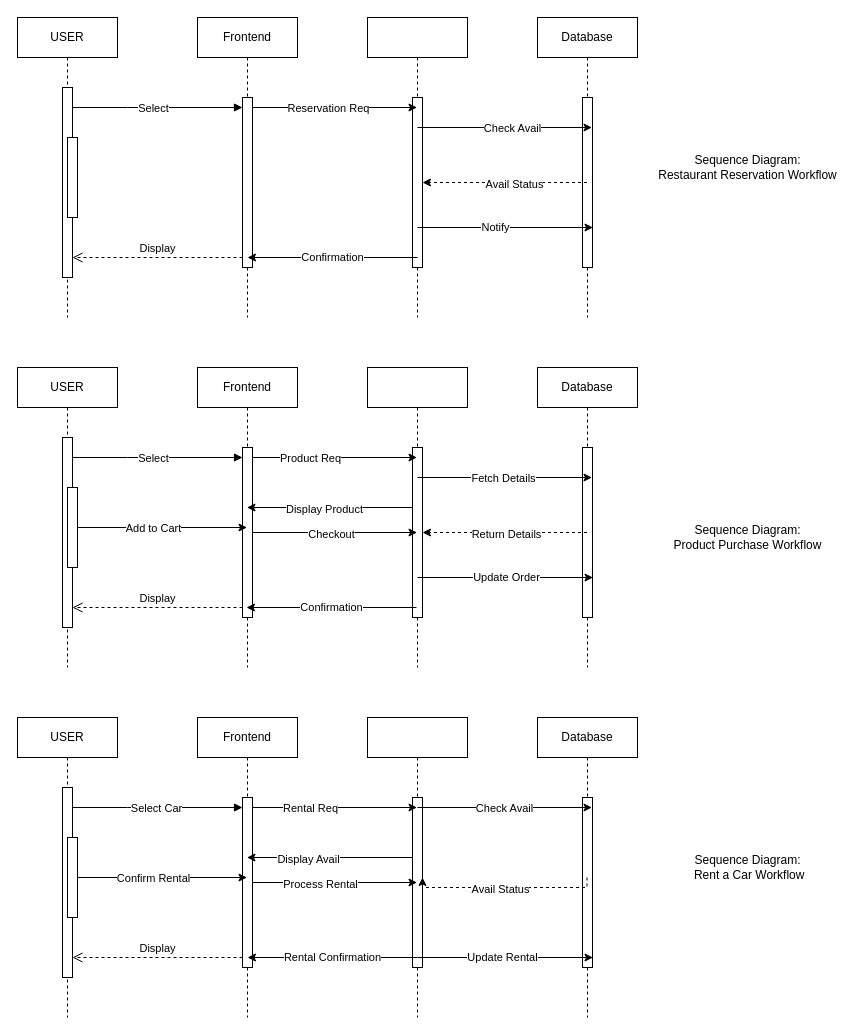
This 865x1035 diagram has some shape labels left out. The shapes that lost their labels are listed below. From the top down, each one's box as (x1, y1, x2, y2) in pixels, then its label:
(366, 16, 468, 318): Reservation Controller
(366, 366, 468, 668): Products Controller
(366, 716, 468, 1018): Rent a Car Controller
